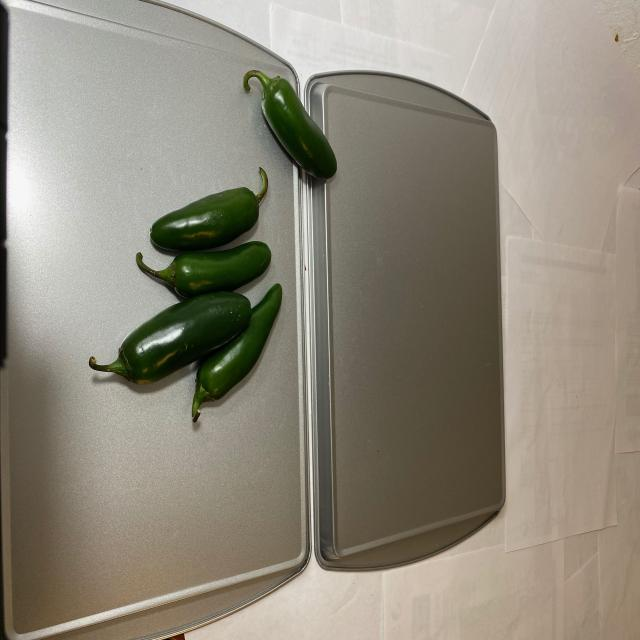chilli: (84, 66, 333, 435)
